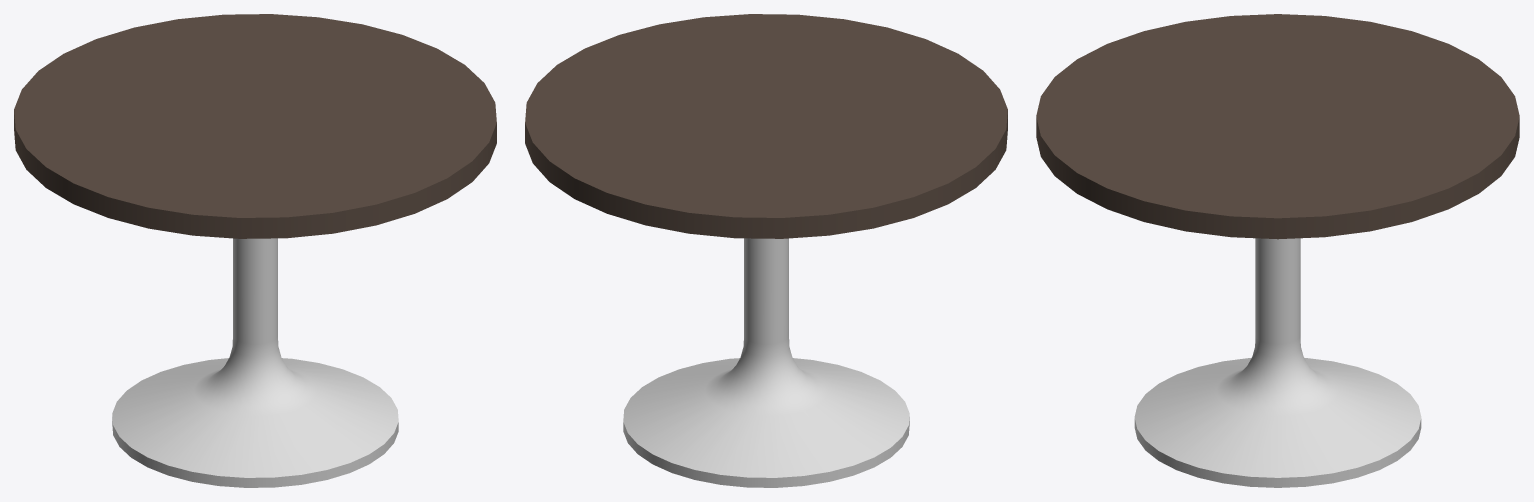
Rendered from TableRonde_3.fbx.
3 renders of one model, left to right at view 1: azimuth 30°, elevation 25°; view 2: azimuth 150°, elevation 25°; view 3: azimuth 270°, elevation 25°, orthographic.
Parts seen in each view (by area): view 1: pCylinder1766; view 2: pCylinder1766; view 3: pCylinder1766.
Boxes of the visible parts, x1,y1,x2,y2 form: pCylinder1766: (14,14,496,487); pCylinder1766: (525,14,1007,487); pCylinder1766: (1036,14,1519,487).
Size of the model in its own units: 53.17 by 37.76 by 53.17.
